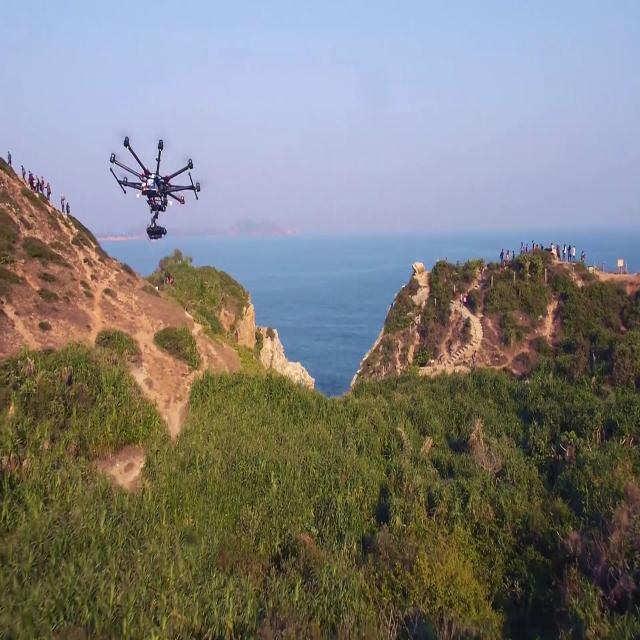drone: (103, 113, 199, 264)
